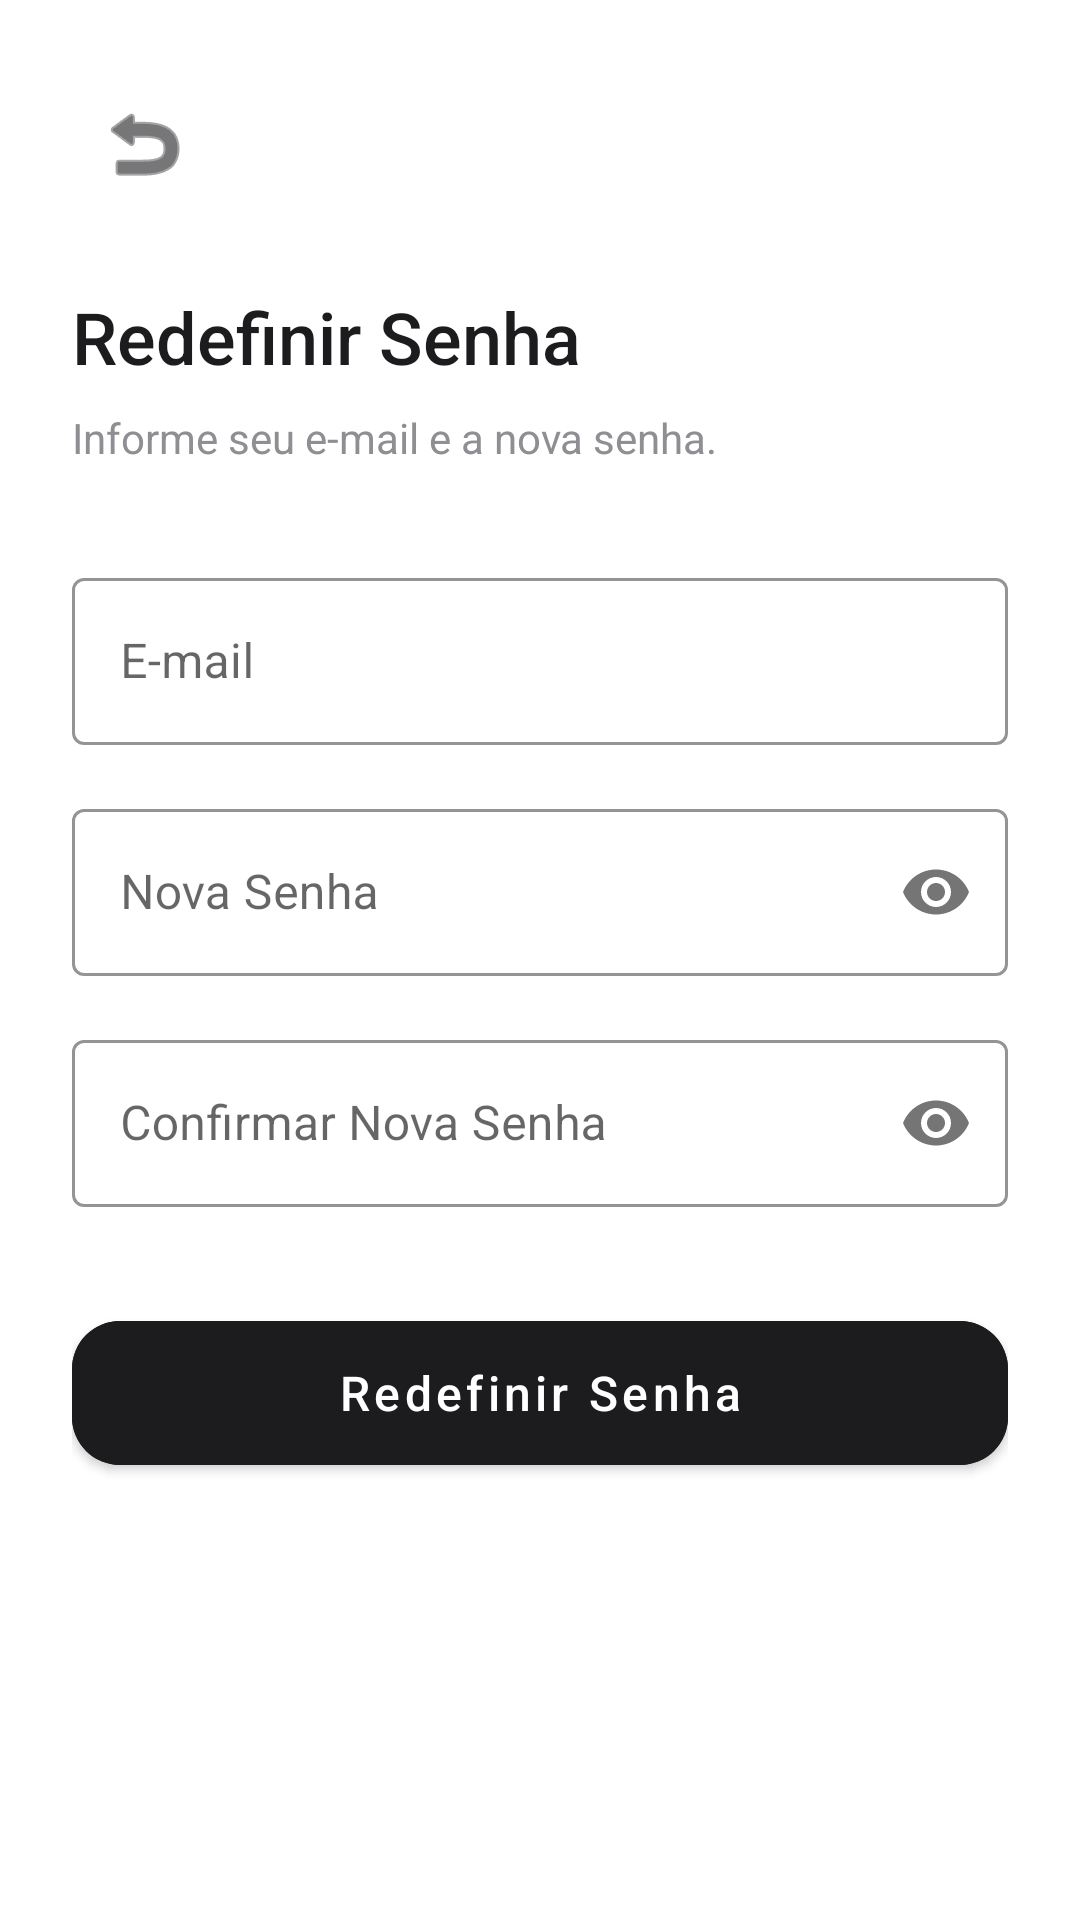

Where to tap for icons on this 1080 x 1920 app screen, as point (x, y):
revert: point (145, 144)
